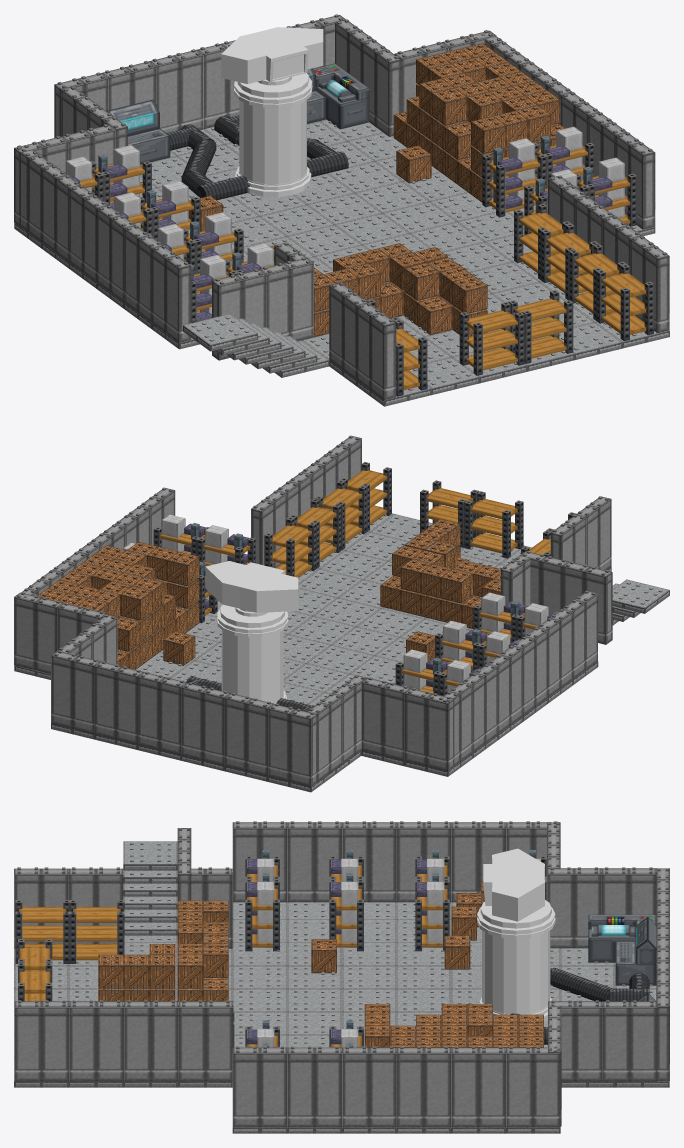
The model's file is Basement With replicator norig.fbx.
3 renders of one model, top to bottom at view 1: azimuth 30°, elevation 25°; view 2: azimuth 150°, elevation 25°; view 3: azimuth 270°, elevation 25°, orthographic. The views are drawn at different scales.
Parts seen in each view (by area): view 1: cube.063; view 2: cube.063; view 3: cube.063.
Part boxes in pixels (box(x1,y1,x2,y2)): cube.063: box(14, 14, 669, 406); cube.063: box(14, 435, 669, 792); cube.063: box(14, 821, 669, 1133).
Bounding box in the file's own units: 2100 × 584 × 2400.
